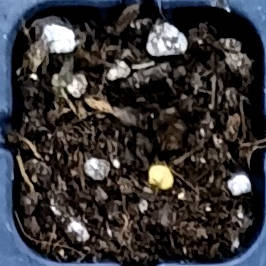pepper seed: (60, 67, 235, 259)
